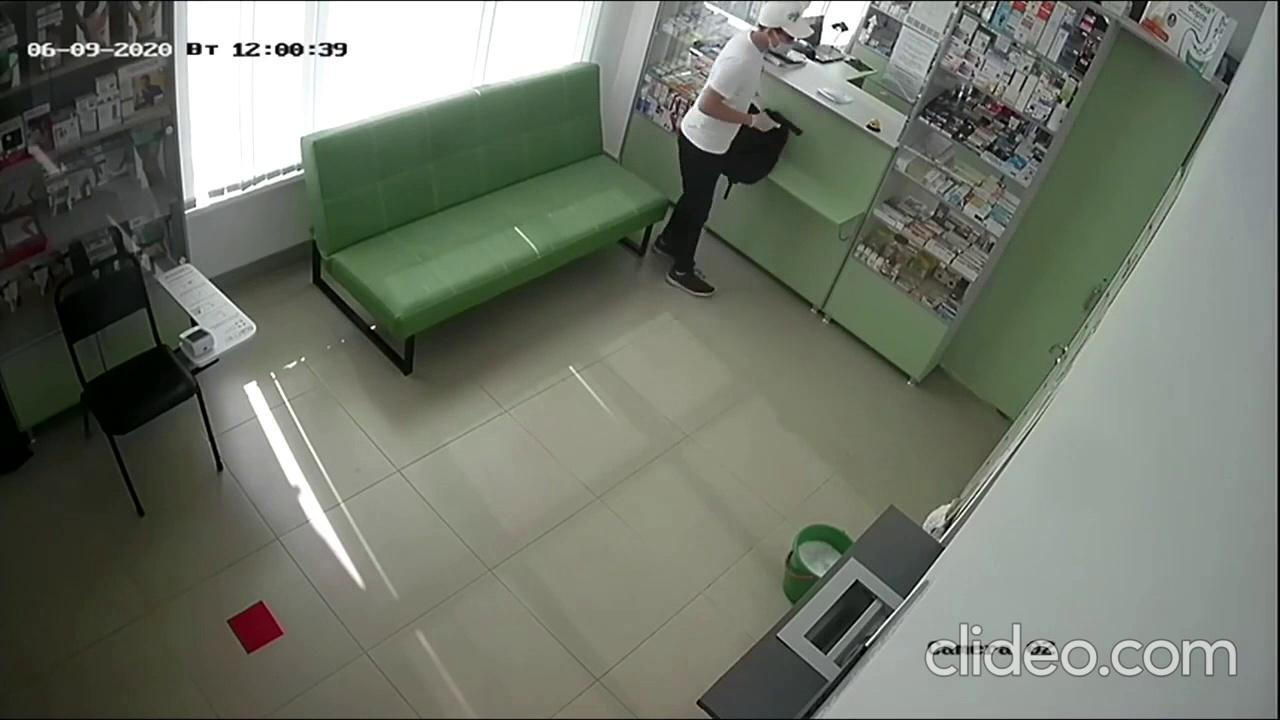person: (651, 0, 815, 299)
pistol: (762, 106, 805, 139)
